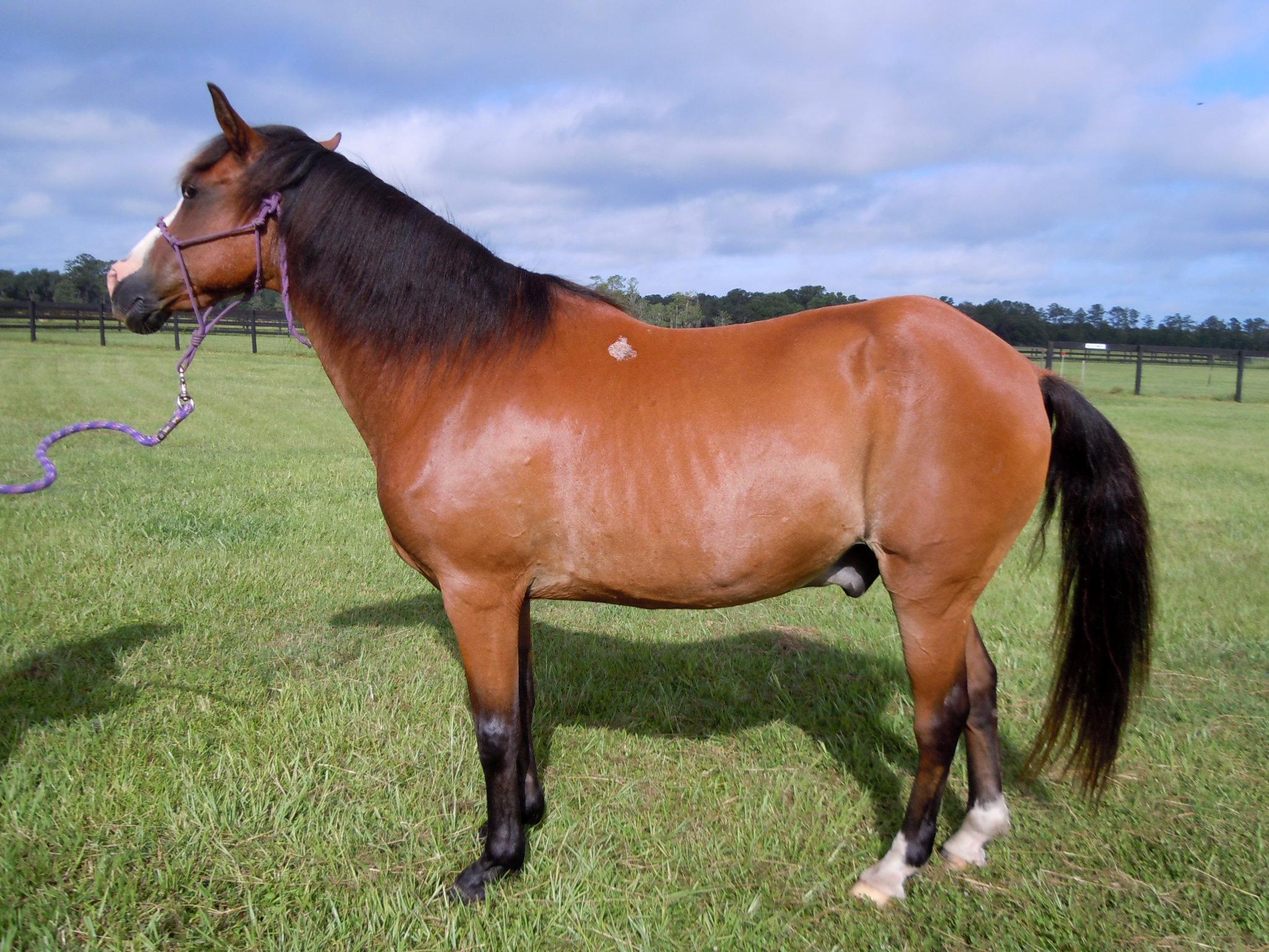horse: (89, 68, 1169, 916)
